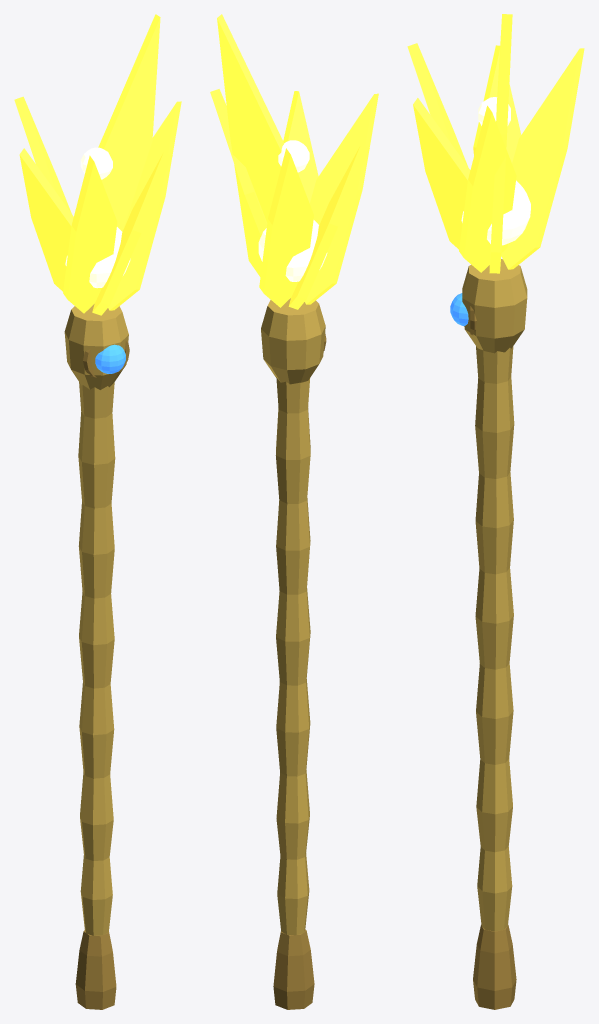
File: staff_sunbrass.glb
3 renders of one model, left to right at view 1: azimuth 30°, elevation 25°; view 2: azimuth 150°, elevation 25°; view 3: azimuth 270°, elevation 25°, orthographic. The views are drawn at different scales.
Visible parts, largest first — view 1: Sn_Shaft, Sn_Flame0, Sn_Flame3, Sn_Flame2, Sn_Flame5, Sn_Bowl, Sn_Butt, Sn_Flame4, Sn_Flame1, Sn_Core, Sn_Gem, Sn_CoreS; view 2: Sn_Shaft, Sn_Flame0, Sn_Flame1, Sn_Flame3, Sn_Bowl, Sn_Butt, Sn_Flame2, Sn_Flame4, Sn_Flame5, Sn_Core, Sn_CoreS; view 3: Sn_Shaft, Sn_Flame1, Sn_Flame5, Sn_Bowl, Sn_Flame4, Sn_Butt, Sn_Flame0, Sn_Flame3, Sn_Core, Sn_Flame2, Sn_Gem.
Boxes of the visible parts, x1=… form: Sn_Shaft: x1=78, y1=382, x2=115, y2=935; Sn_Flame0: x1=98, y1=14, x2=160, y2=231; Sn_Flame3: x1=63, y1=155, x2=117, y2=313; Sn_Flame2: x1=19, y1=148, x2=73, y2=291; Sn_Flame5: x1=108, y1=101, x2=181, y2=310; Sn_Bowl: x1=64, y1=304, x2=128, y2=389; Sn_Butt: x1=75, y1=930, x2=116, y2=1009; Sn_Flame4: x1=92, y1=152, x2=172, y2=315; Sn_Flame1: x1=14, y1=96, x2=71, y2=213; Sn_Core: x1=65, y1=227, x2=130, y2=288; Sn_Gem: x1=95, y1=344, x2=125, y2=373; Sn_CoreS: x1=80, y1=147, x2=112, y2=179; Sn_Shaft: x1=275, y1=377, x2=310, y2=935; Sn_Flame0: x1=217, y1=14, x2=284, y2=276; Sn_Flame1: x1=259, y1=148, x2=313, y2=307; Sn_Flame3: x1=305, y1=93, x2=378, y2=304; Sn_Bowl: x1=261, y1=298, x2=325, y2=384; Sn_Butt: x1=273, y1=929, x2=314, y2=1009; Sn_Flame2: x1=288, y1=145, x2=369, y2=309; Sn_Flame4: x1=283, y1=91, x2=318, y2=203; Sn_Flame5: x1=210, y1=89, x2=267, y2=236; Sn_Core: x1=258, y1=220, x2=327, y2=281; Sn_CoreS: x1=278, y1=140, x2=309, y2=172; Sn_Shaft: x1=475, y1=346, x2=514, y2=931; Sn_Flame1: x1=501, y1=48, x2=584, y2=269; Sn_Flame5: x1=459, y1=105, x2=516, y2=272; Sn_Bowl: x1=462, y1=259, x2=527, y2=353; Sn_Flame4: x1=413, y1=98, x2=470, y2=249; Sn_Butt: x1=473, y1=924, x2=516, y2=1009; Sn_Flame0: x1=489, y1=14, x2=512, y2=273; Sn_Flame3: x1=407, y1=43, x2=467, y2=166; Sn_Core: x1=461, y1=180, x2=530, y2=245; Sn_Flame2: x1=473, y1=45, x2=521, y2=162; Sn_Gem: x1=450, y1=293, x2=468, y2=326.
Bounding box in the file's own units: 0.4467 × 2.57 × 0.4036.
